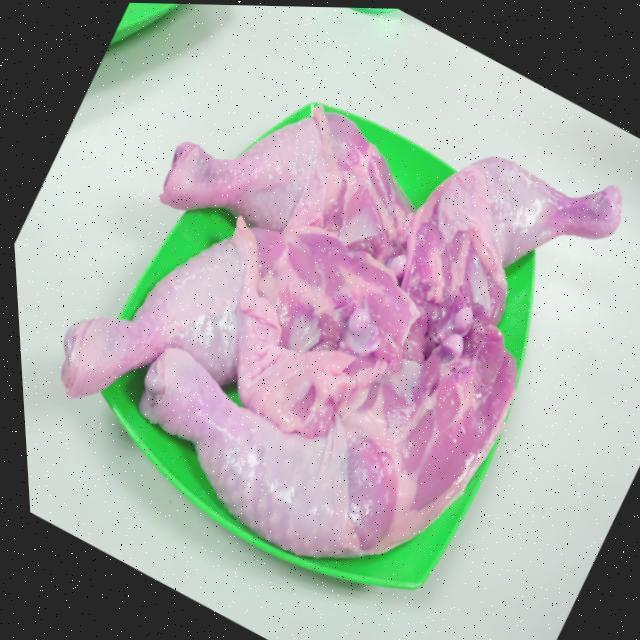quater: (153, 318, 533, 544), (56, 212, 408, 400), (144, 107, 404, 260), (412, 144, 622, 300)
